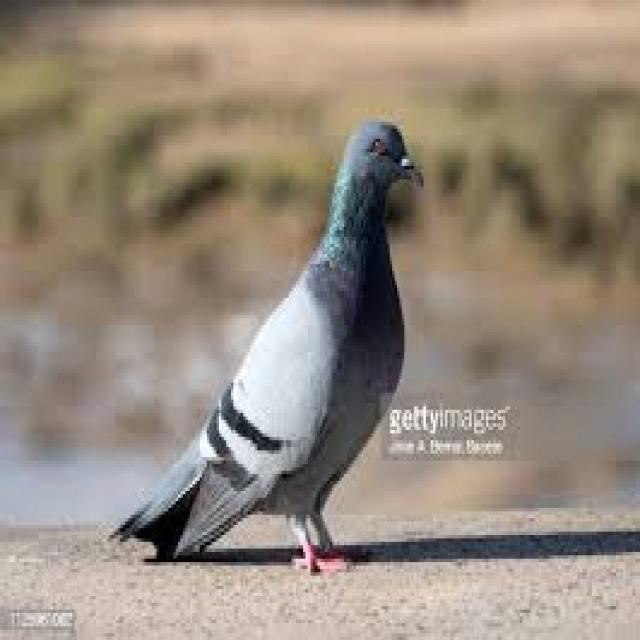pigeon: (107, 100, 426, 584)
